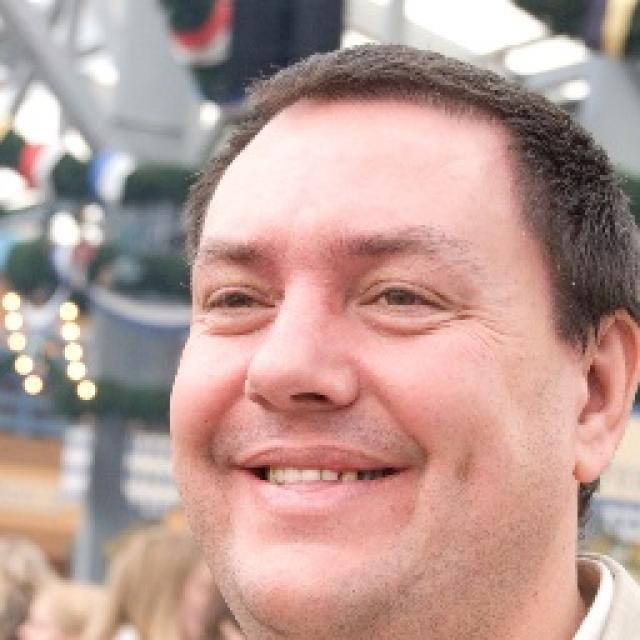earlobe: (570, 418, 609, 486)
eye: (358, 284, 436, 312), (202, 290, 274, 312)
nose: (240, 376, 336, 453)
wholeear: (570, 307, 640, 485)
